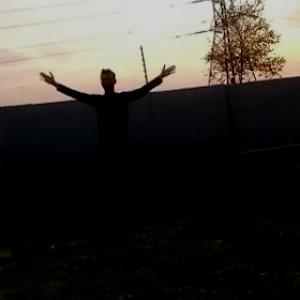takeoff: (50, 68, 172, 204)
